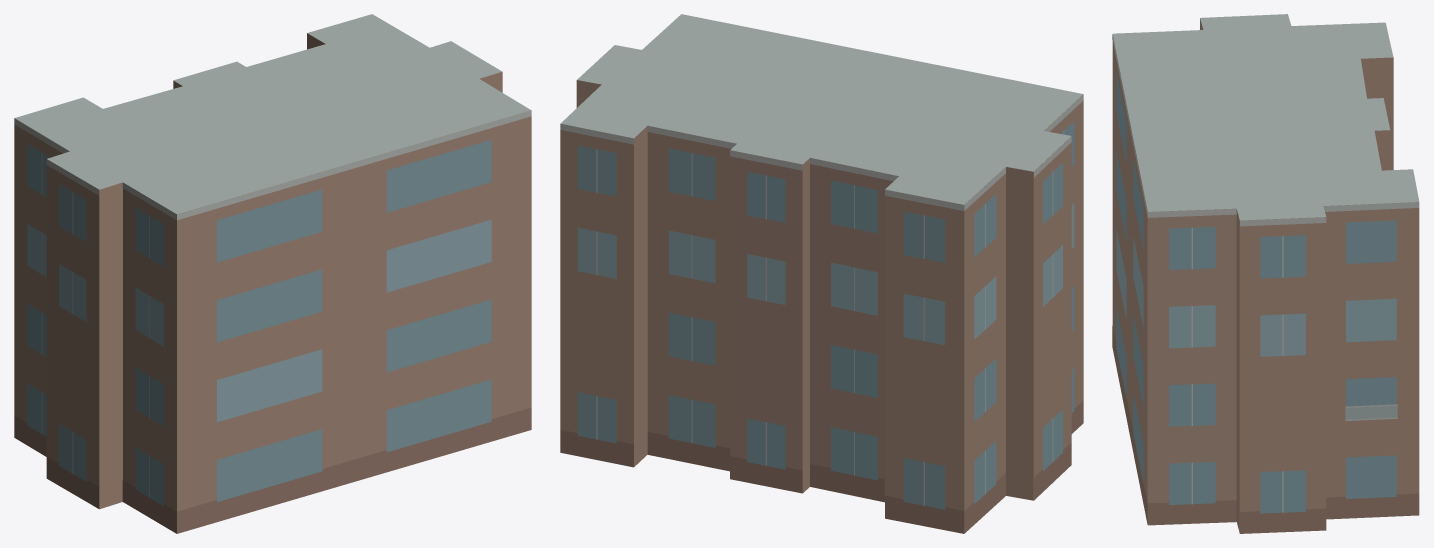
File: survey-upis-32756428.glb
3 renders of one model, left to right at view 1: azimuth 30°, elevation 25°; view 2: azimuth 150°, elevation 25°; view 3: azimuth 270°, elevation 25°, orthographic. The views are drawn at different scales.
Visible parts, largest first — view 1: survey-upis-32756428.tmp; view 2: survey-upis-32756428.tmp; view 3: survey-upis-32756428.tmp.
Part boxes in pixels (bbox=[...]): survey-upis-32756428.tmp: bbox=[14, 14, 531, 533]; survey-upis-32756428.tmp: bbox=[560, 14, 1083, 533]; survey-upis-32756428.tmp: bbox=[1112, 14, 1419, 533].
Bounding box in the file's own units: 18.24 × 12.9 × 11.46.
